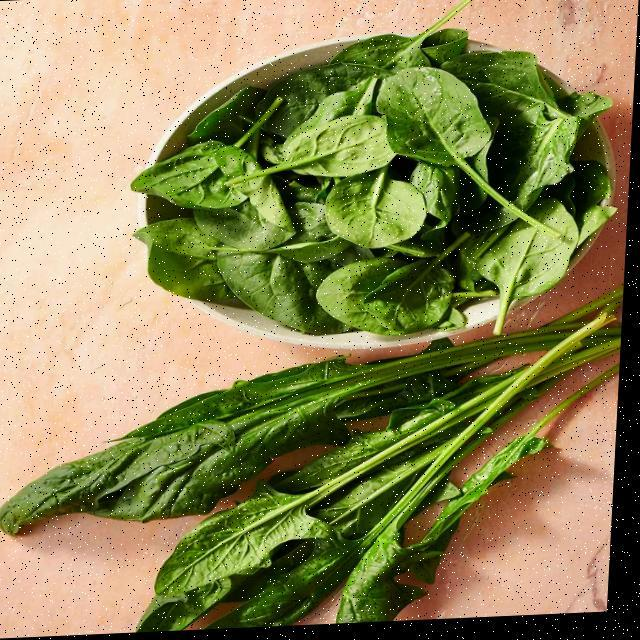Spinach: (0, 336, 625, 639), (119, 23, 631, 347)
